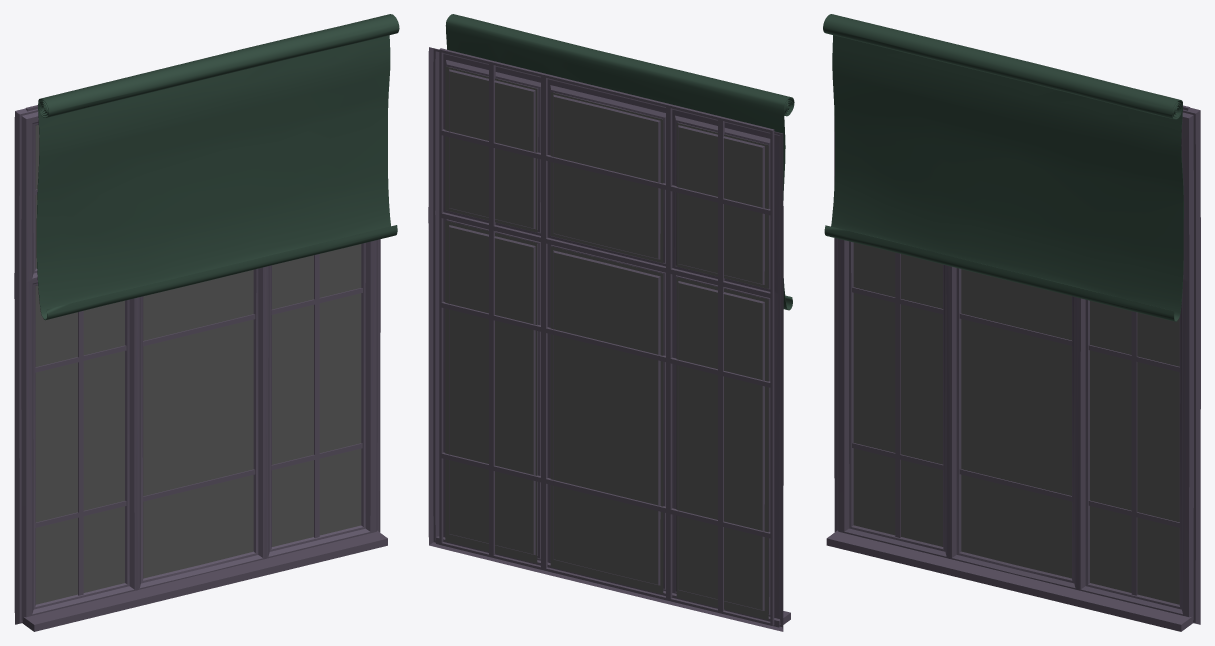
The model's file is Glass002.FBX.
3 views of the same model, side by side, from view 1: azimuth 30°, elevation 25°; view 2: azimuth 150°, elevation 25°; view 3: azimuth 330°, elevation 25° (orthographic). The views are drawn at different scales.
Visible parts, largest first — view 1: Glass002; view 2: Glass002; view 3: Glass002.
Boxes of the visible parts, left/top/right/bottom form: Glass002: left=14, top=14, right=399, bottom=631; Glass002: left=428, top=14, right=794, bottom=631; Glass002: left=823, top=14, right=1200, bottom=631.
Bounding box in the file's own units: 6.5 × 9.08 × 0.7378.
3 materials, 3 textured.
